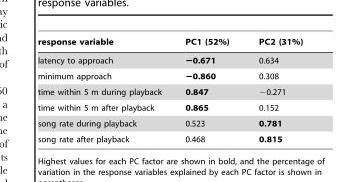table: (37, 37, 302, 143)
table column: (37, 37, 172, 143), (172, 37, 243, 143), (243, 37, 302, 143)
table column header: (37, 37, 302, 50)
table row: (37, 50, 302, 68), (37, 83, 302, 99), (37, 99, 302, 115), (37, 115, 302, 131), (37, 68, 302, 83), (37, 37, 302, 50), (37, 131, 302, 143)
